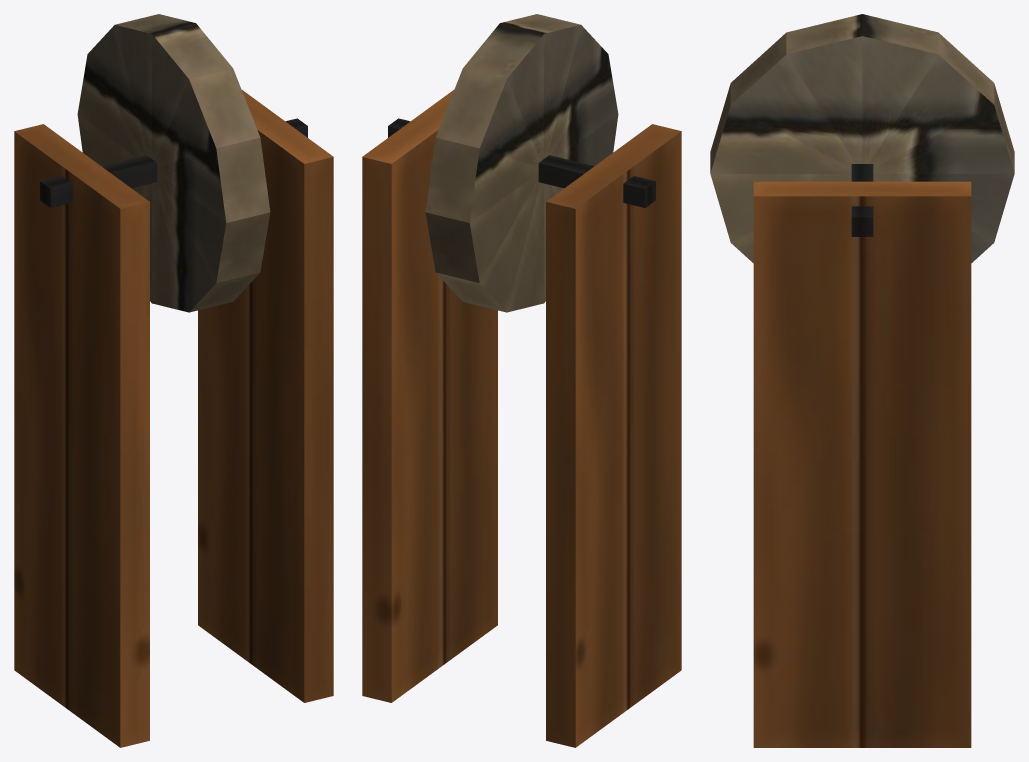
The model's file is grindstone.glb.
3 renders of one model, left to right at view 1: azimuth 30°, elevation 25°; view 2: azimuth 150°, elevation 25°; view 3: azimuth 270°, elevation 25°, orthographic. The views are drawn at different scales.
Visible parts, largest first — view 1: props_0_0; view 2: props_0_0; view 3: props_0_0.
Part boxes in pixels (<box>): props_0_0: <box>14,14,333,747</box>; props_0_0: <box>362,14,681,747</box>; props_0_0: <box>710,14,1014,747</box>.
Size of the model in its own units: 0.7 by 1.7 by 0.7.
Materials: 2 (2 with a texture image).
